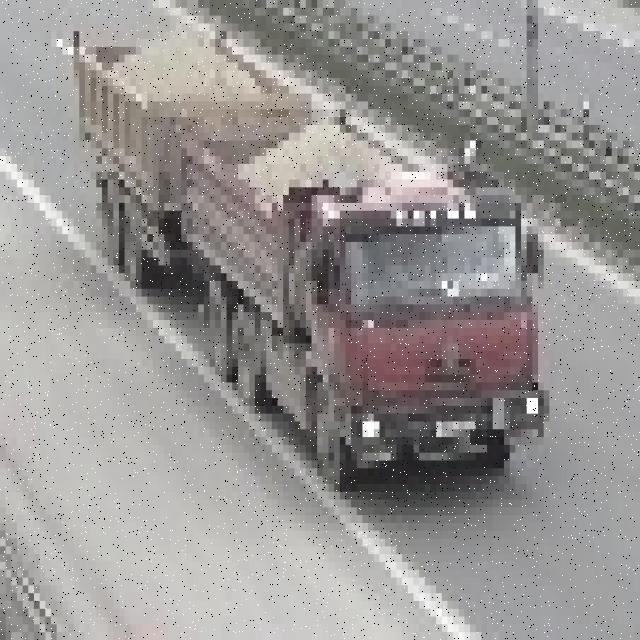truck: (73, 16, 550, 477)
